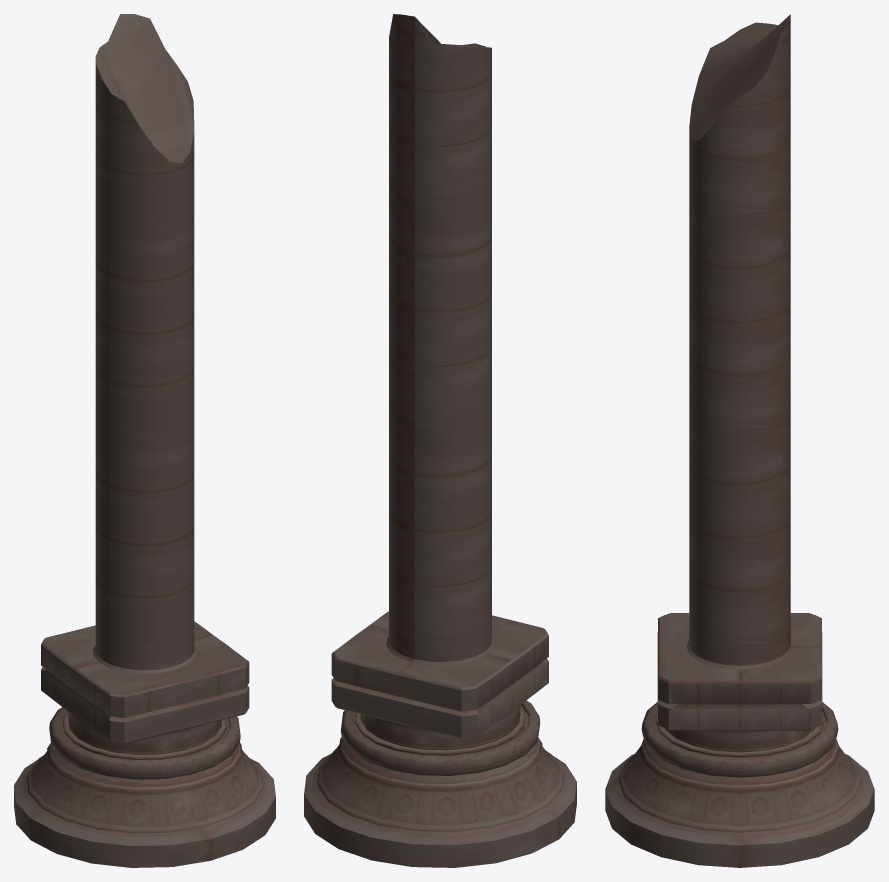
Rendered from PillarDamaged1_5.fbx.
The picture shows the model from 3 angles, left to right: view 1: azimuth 30°, elevation 25°; view 2: azimuth 150°, elevation 25°; view 3: azimuth 270°, elevation 25°; orthographic projection. The views are drawn at different scales.
Visible parts, largest first — view 1: pasted__pasted__polySurface82; view 2: pasted__pasted__polySurface82; view 3: pasted__pasted__polySurface82.
Part boxes in pixels (bbox=[...]): pasted__pasted__polySurface82: bbox=[14, 14, 275, 867]; pasted__pasted__polySurface82: bbox=[304, 14, 576, 867]; pasted__pasted__polySurface82: bbox=[605, 14, 874, 867].
Bounding box in the file's own units: 60.22 × 197 × 60.22.
